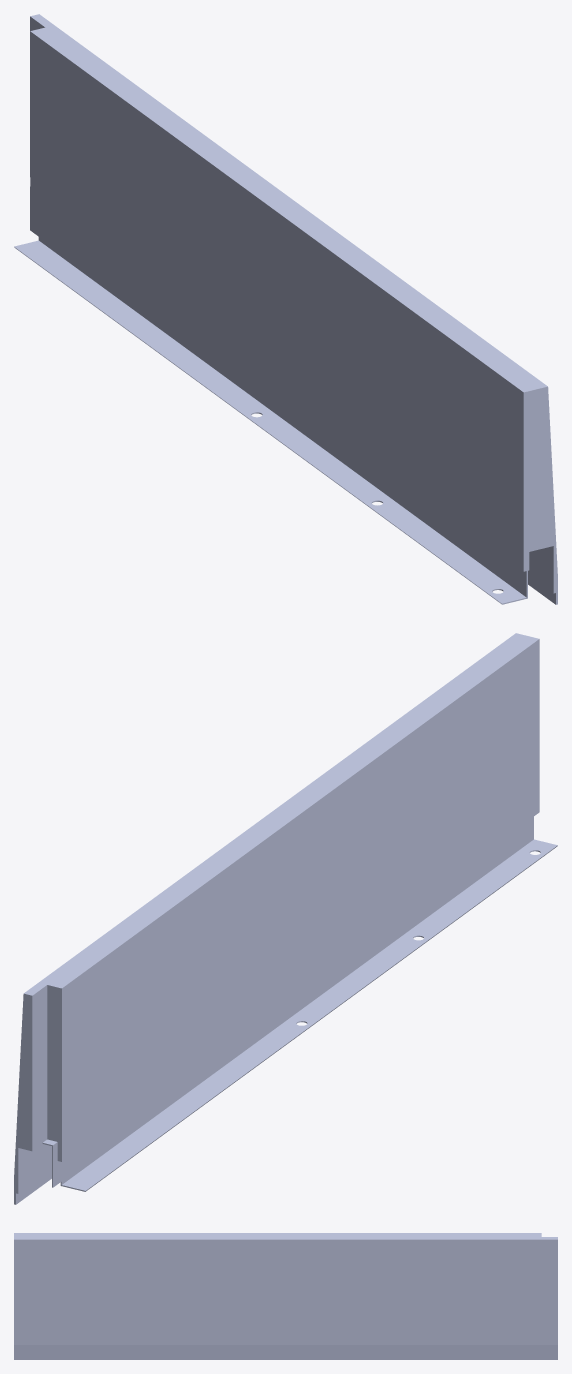
The model's file is mv-kava-K550-m.glb.
The picture shows the model from 3 angles, top to bottom: view 1: azimuth 30°, elevation 25°; view 2: azimuth 150°, elevation 25°; view 3: azimuth 270°, elevation 25°; orthographic projection. The views are drawn at different scales.
Parts seen in each view (by area): view 1: 49044385; view 2: 49044385; view 3: 49044385.
Boxes of the visible parts, bbox=[...] form: 49044385: bbox=[14, 14, 557, 604]; 49044385: bbox=[14, 633, 557, 1204]; 49044385: bbox=[14, 1233, 557, 1359].
Size of the model in its own units: 0.0335 by 0.129 by 0.5402.
